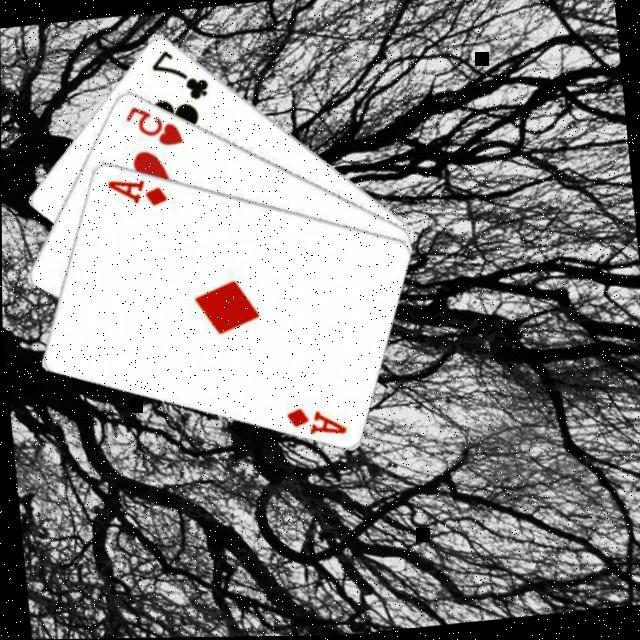5H: (122, 98, 188, 154)
7C: (148, 43, 215, 108)
AD: (104, 172, 171, 214), (283, 401, 350, 443)
